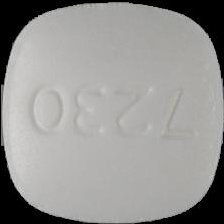0093-2065: (0, 0, 224, 224)
